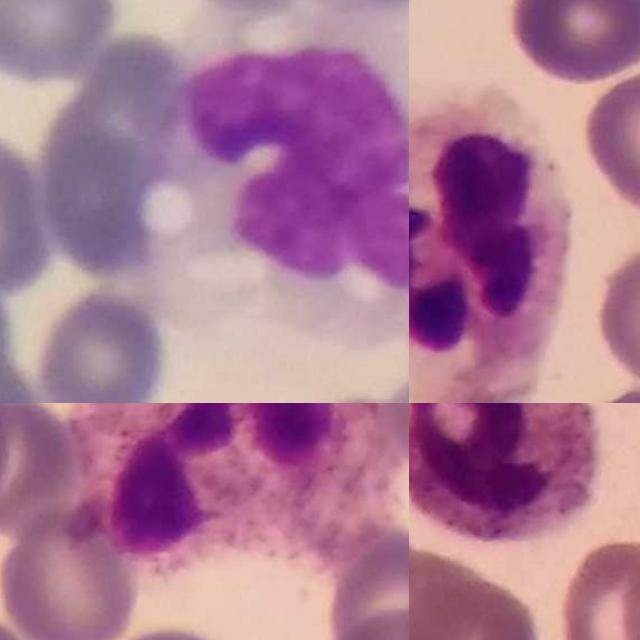Monocyte: (144, 7, 409, 339)
Neutrophil: (69, 403, 398, 576), (409, 79, 575, 403), (409, 403, 599, 543)
